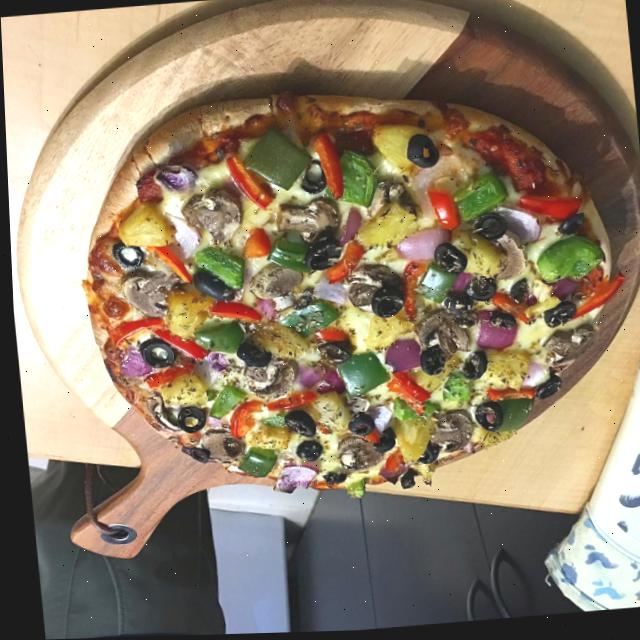black_olives: (185, 265, 237, 308), (298, 233, 345, 274), (134, 335, 177, 375), (401, 132, 441, 174), (229, 337, 271, 376), (427, 240, 467, 280), (275, 405, 317, 441), (106, 237, 146, 274), (296, 156, 330, 199), (469, 208, 506, 247), (537, 299, 576, 334), (413, 344, 444, 384), (551, 210, 587, 243), (480, 308, 518, 337), (456, 351, 486, 387), (462, 274, 495, 305), (437, 291, 471, 321), (338, 414, 374, 442), (170, 406, 204, 434), (529, 373, 557, 402), (288, 440, 321, 464), (504, 278, 528, 308), (370, 429, 394, 457), (410, 445, 438, 467), (181, 445, 207, 468), (394, 470, 416, 495), (319, 470, 345, 490)
mushrooms: (331, 263, 403, 318), (113, 267, 178, 327), (269, 194, 341, 247), (179, 189, 242, 249), (405, 311, 477, 363), (233, 356, 301, 403), (535, 326, 596, 373), (482, 229, 530, 284), (243, 260, 303, 302), (327, 433, 379, 479), (422, 412, 472, 459), (190, 430, 248, 470), (359, 176, 399, 226), (143, 392, 178, 439), (339, 396, 368, 416)
pizza: (62, 69, 639, 516)
